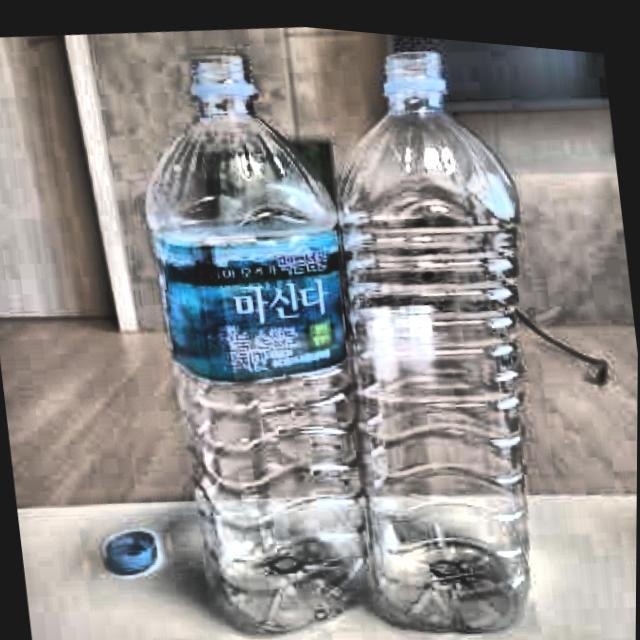Bottles: (122, 14, 387, 640), (306, 22, 571, 640)
